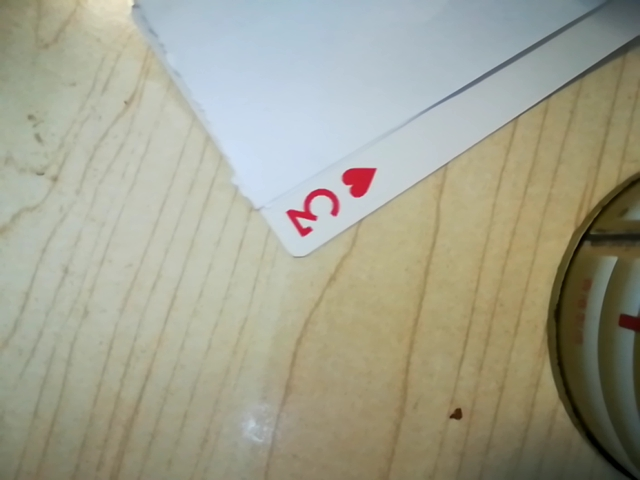hx 3: (277, 168, 376, 244)
